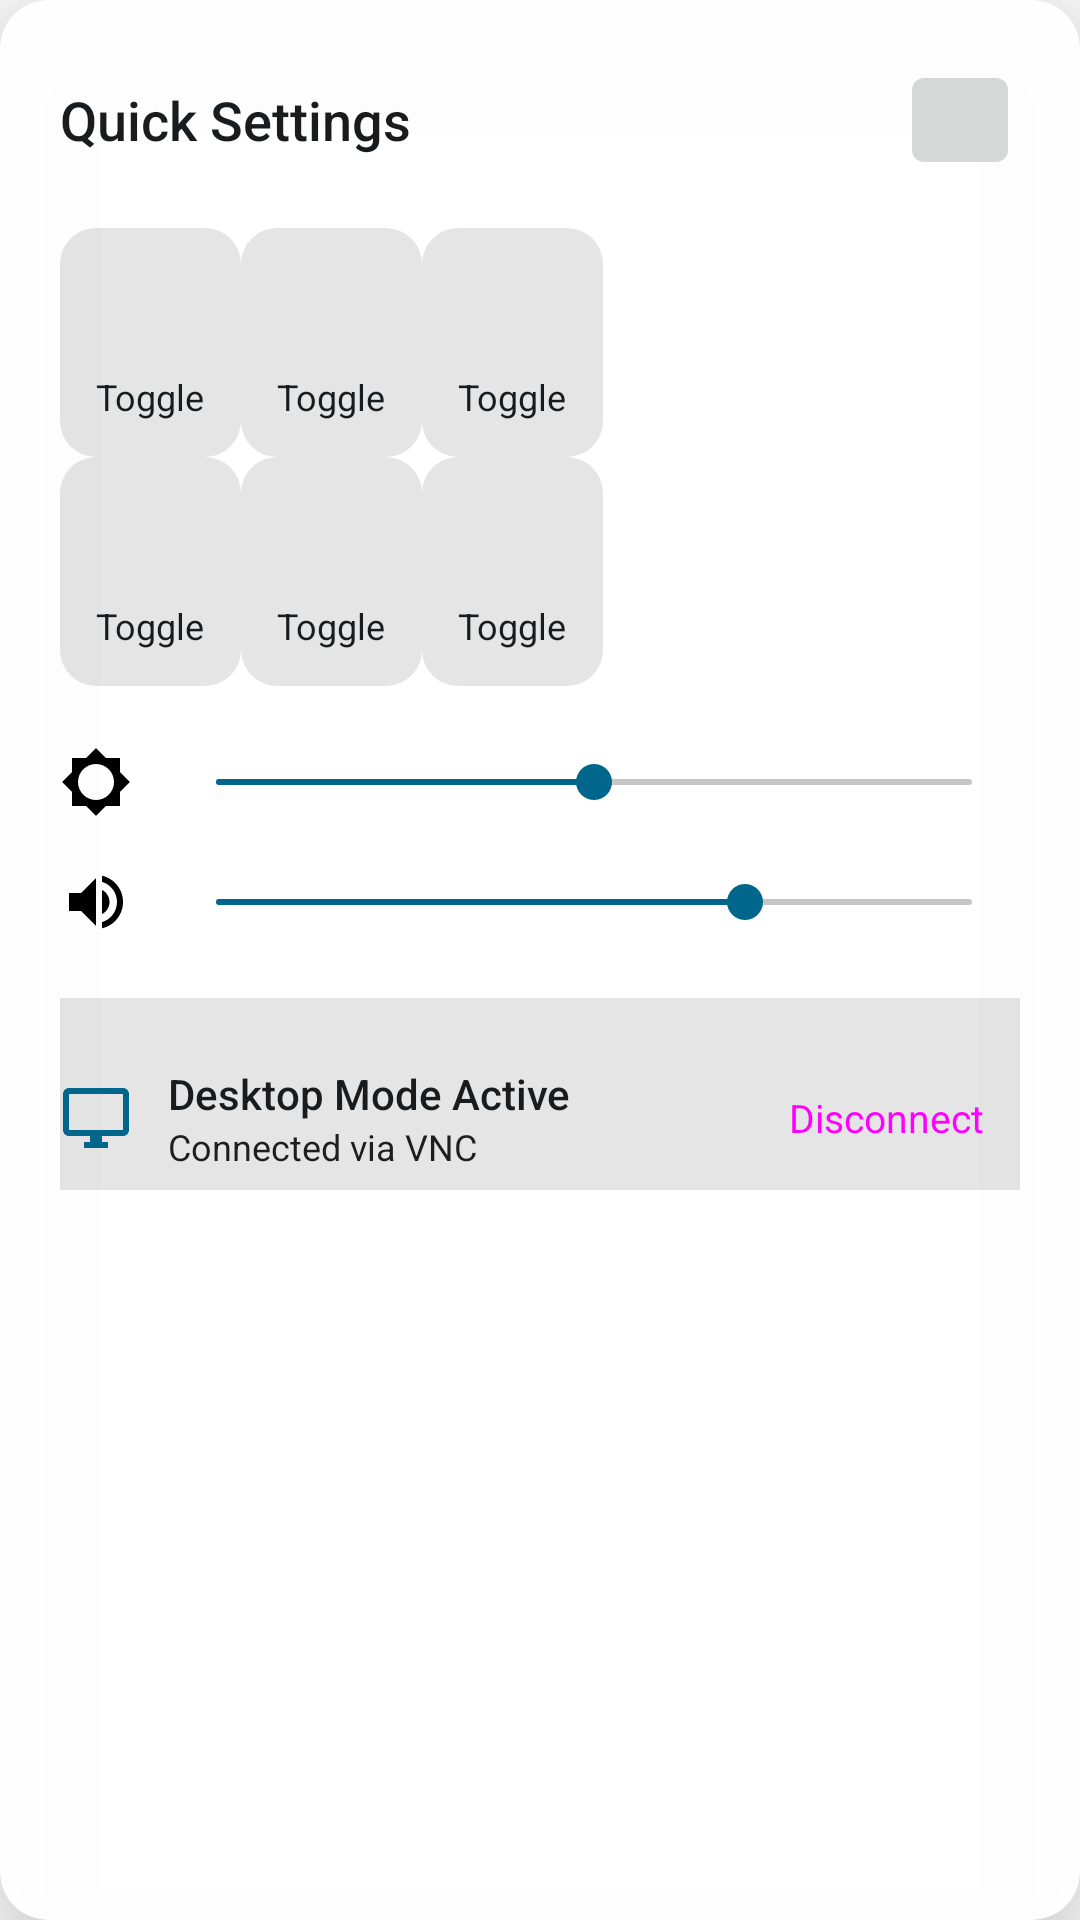

Icons on this 1080w x 1920h Android screen, each with the point to tap as point (x, y):
brightness: point (96, 782)
volume: point (96, 902)
